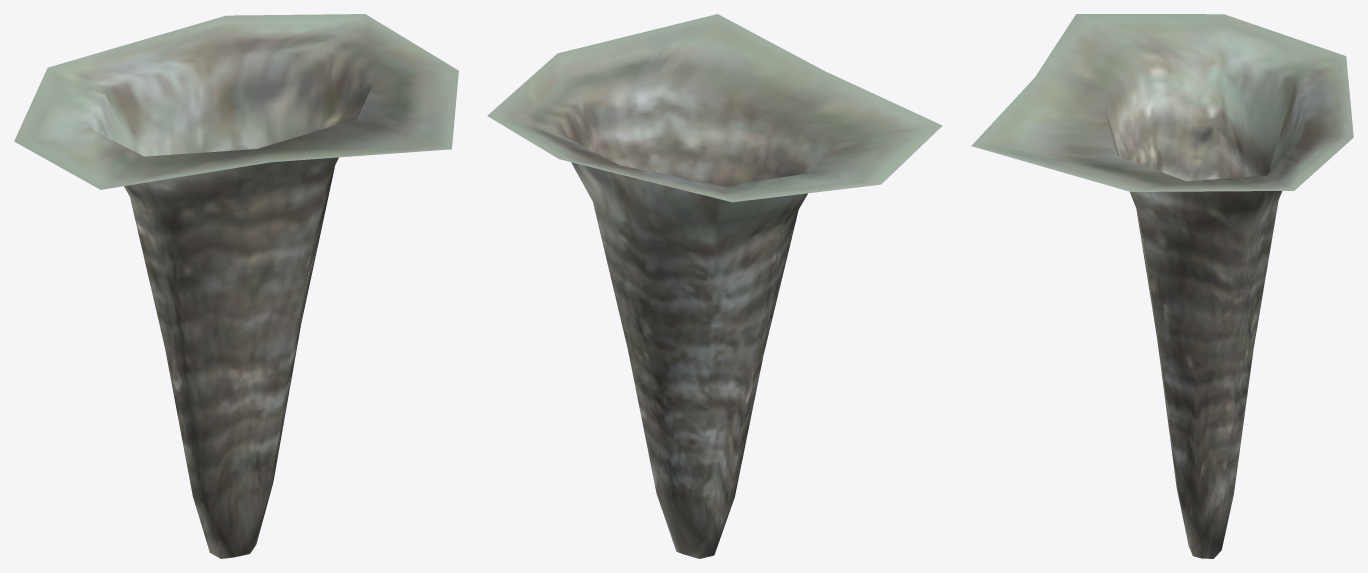
Rendered from TROLLHOLE02_PS-MAINSTALAG40.fbx.
3 views of the same model, side by side, from view 1: azimuth 30°, elevation 25°; view 2: azimuth 150°, elevation 25°; view 3: azimuth 270°, elevation 25° (orthographic). The views are drawn at different scales.
Parts seen in each view (by area): view 1: TROLLHOLE02_PS-MAINSTALAG40; view 2: TROLLHOLE02_PS-MAINSTALAG40; view 3: TROLLHOLE02_PS-MAINSTALAG40.
Part boxes in pixels (left/top/right/bottom): TROLLHOLE02_PS-MAINSTALAG40: left=14, top=14, right=458, bottom=558; TROLLHOLE02_PS-MAINSTALAG40: left=487, top=14, right=942, bottom=558; TROLLHOLE02_PS-MAINSTALAG40: left=971, top=14, right=1353, bottom=558.
Bounding box in the file's own units: 22476 × 25630 × 19455.
1 material, 1 textured.
